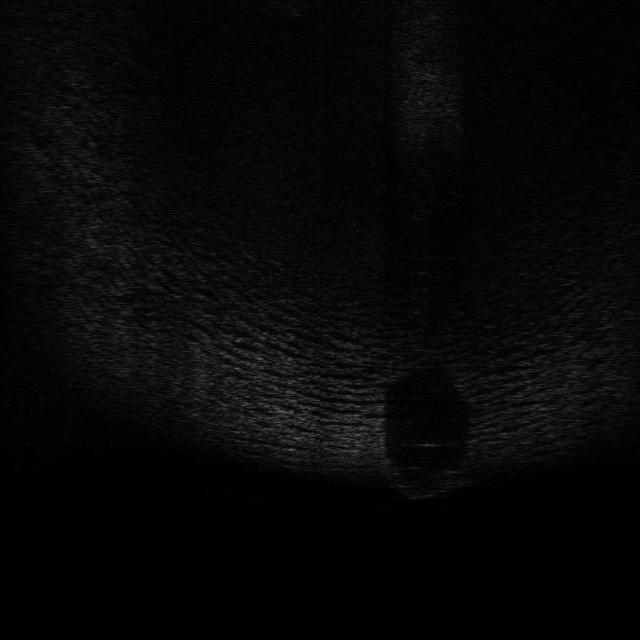cube: (390, 468, 470, 500)
